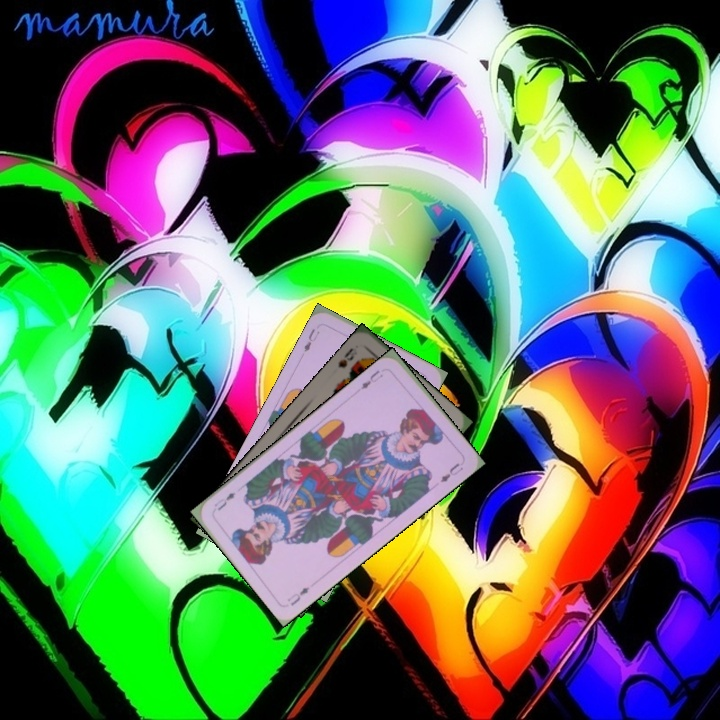EU: (357, 366, 386, 392), (283, 583, 312, 609), (300, 325, 322, 355)
S8: (334, 344, 360, 370)
